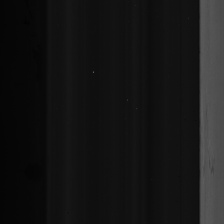silk_spot: (200, 106, 219, 192)
